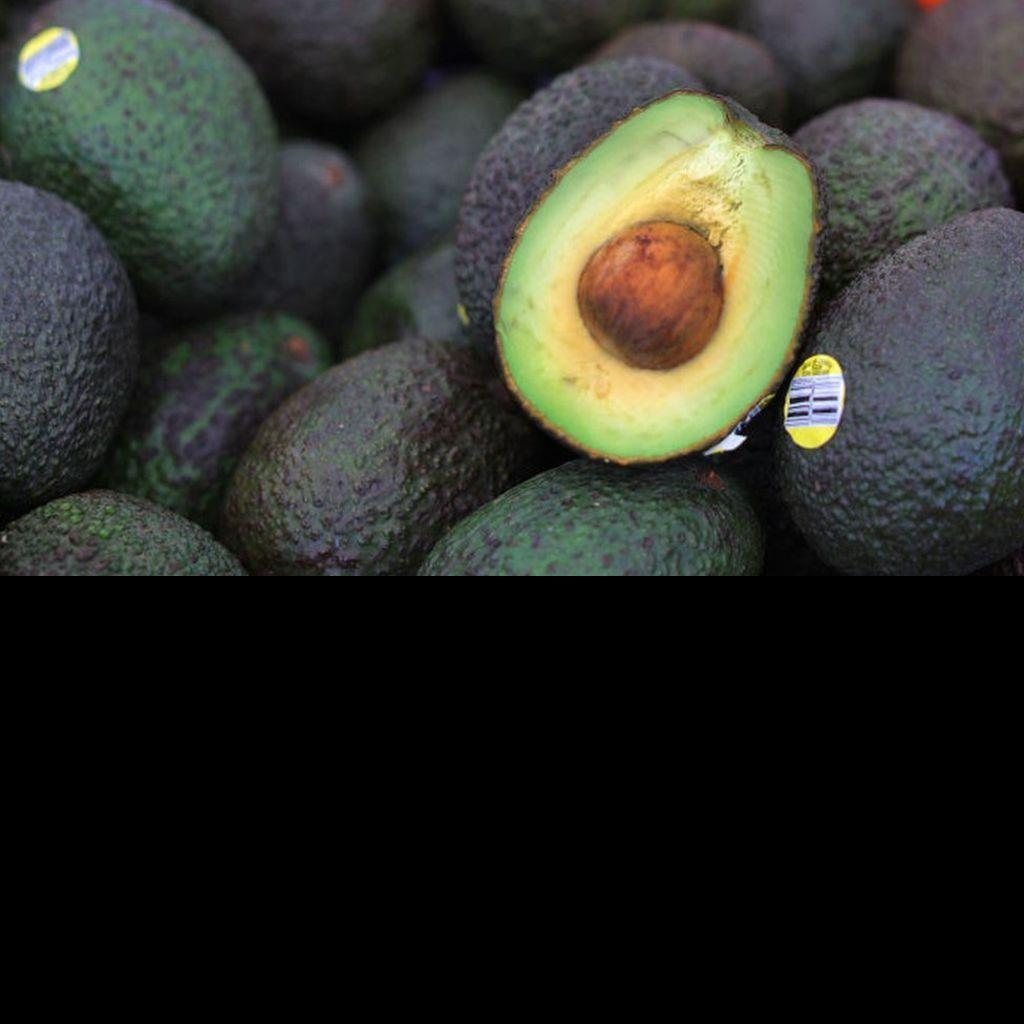almost: (223, 339, 581, 575), (456, 56, 705, 351), (7, 487, 245, 576)
ripe: (779, 209, 1021, 579), (1, 182, 142, 520)
unripe: (2, 1, 281, 324), (416, 458, 769, 576)
